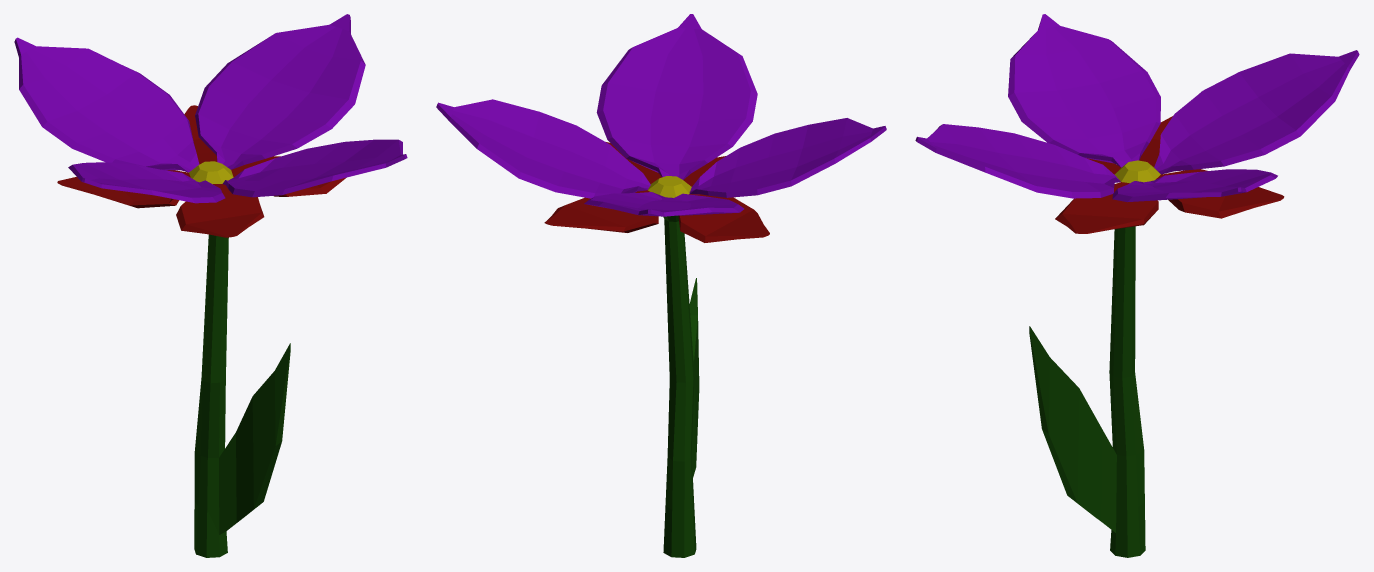
Rendered from flower.fbx.
The picture shows the model from 3 angles, left to right: view 1: azimuth 30°, elevation 25°; view 2: azimuth 150°, elevation 25°; view 3: azimuth 270°, elevation 25°; orthographic projection. The views are drawn at different scales.
Parts seen in each view (by area): view 1: Cylinder; view 2: Cylinder; view 3: Cylinder.
Part boxes in pixels (bbox=[...]): Cylinder: bbox=[14, 14, 407, 557]; Cylinder: bbox=[436, 14, 886, 557]; Cylinder: bbox=[915, 14, 1359, 557].
Bounding box in the file's own units: 1642 × 1943 × 1703.
